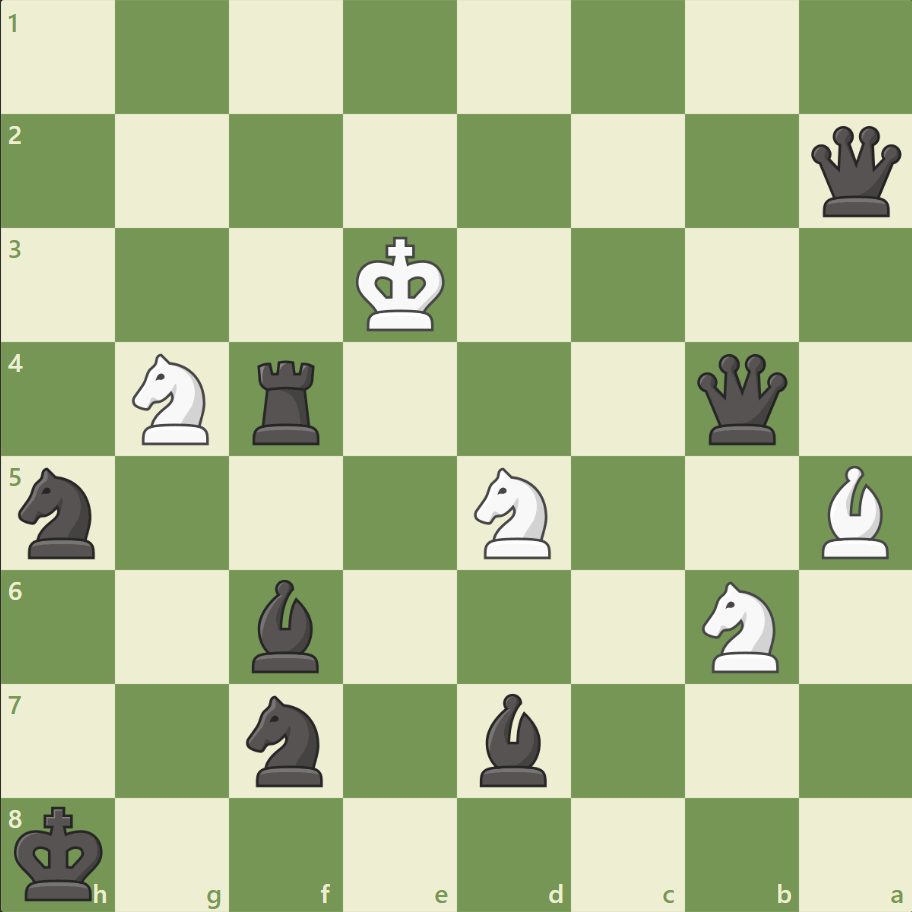B: (812, 460, 896, 563)
K: (351, 231, 451, 339)
N: (124, 348, 222, 450), (465, 461, 562, 564), (692, 575, 789, 677)
b: (471, 687, 555, 790), (244, 574, 328, 676)
k: (11, 798, 111, 906)
n: (238, 688, 335, 791), (11, 461, 108, 564)
q: (691, 349, 790, 449), (805, 122, 904, 222)
r: (246, 352, 329, 449)
